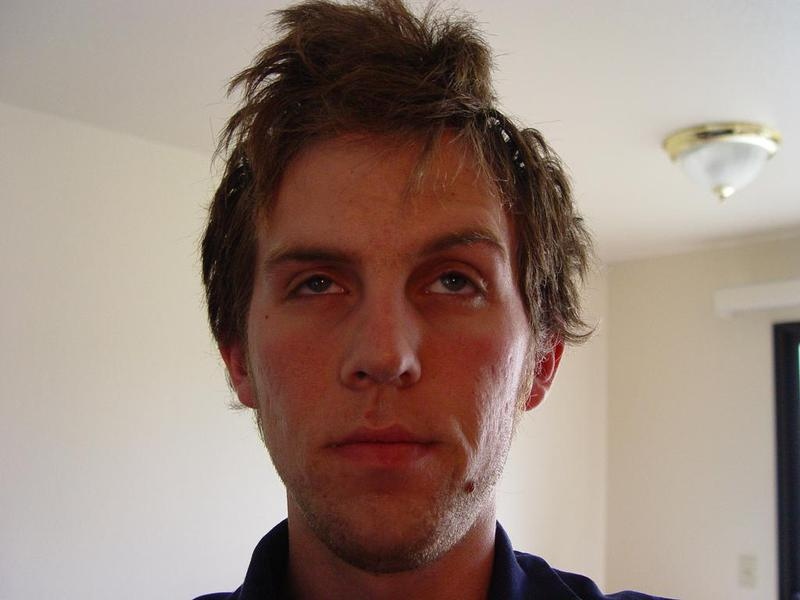person: (197, 1, 645, 597)
